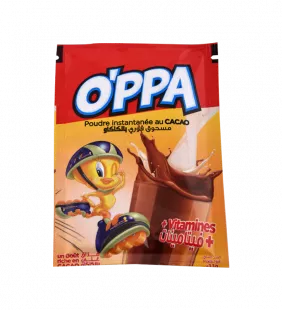O'PPA: (44, 36, 236, 276)
